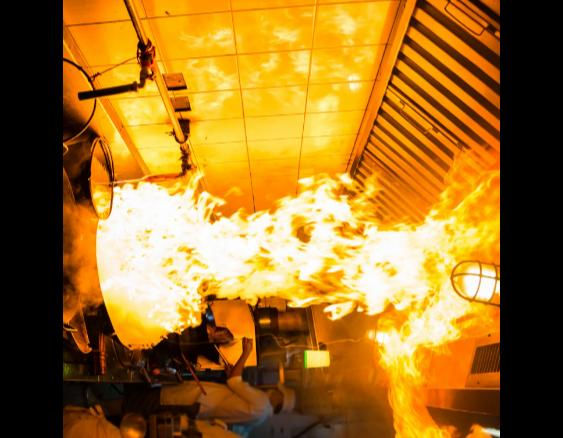fire: (105, 139, 423, 436)
